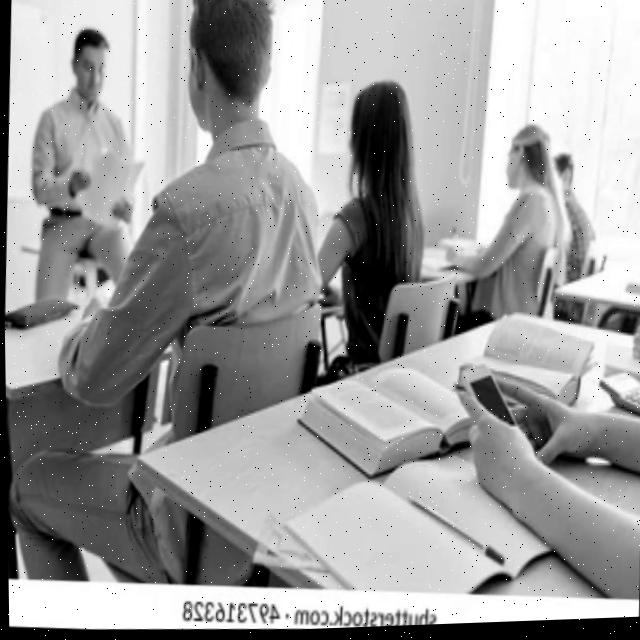phone: (456, 361, 523, 432), (597, 369, 640, 426)
